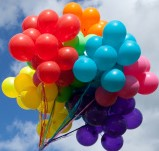Balloon: (8, 33, 35, 61), (55, 14, 81, 43), (35, 33, 58, 60), (73, 57, 97, 82), (102, 20, 126, 45), (117, 41, 141, 66), (101, 69, 126, 92), (95, 45, 116, 69), (103, 115, 128, 135), (36, 62, 59, 83), (138, 72, 159, 94), (22, 85, 42, 108), (81, 106, 105, 124), (101, 133, 124, 151), (50, 114, 72, 132), (76, 127, 97, 145), (38, 81, 56, 101), (37, 119, 53, 140)
